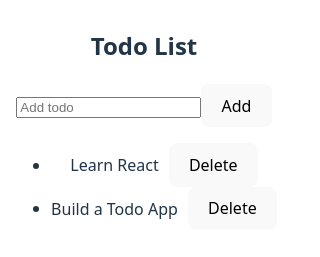
Test: TodoList component › adds a new todo
Type "Test Todo" into the field with placeholder "Add todo".
click(109, 107); type("Test Todo")  # box x1=16 y1=97 x2=201 y2=118
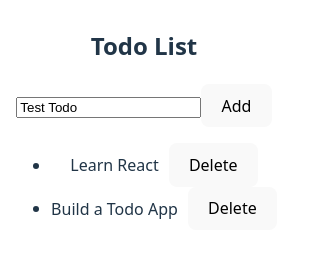
Click the button "Add".
click(236, 106)  # box x1=201 y1=84 x2=272 y2=127
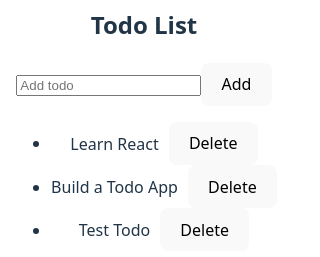
Check: the list item "Test Todo" is shown, box x1=79 y1=219 x2=150 y2=241
